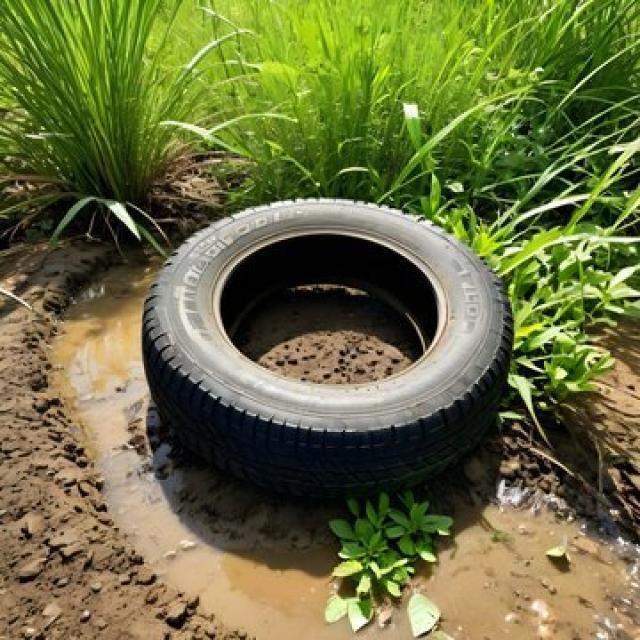tire: (138, 195, 514, 498)
